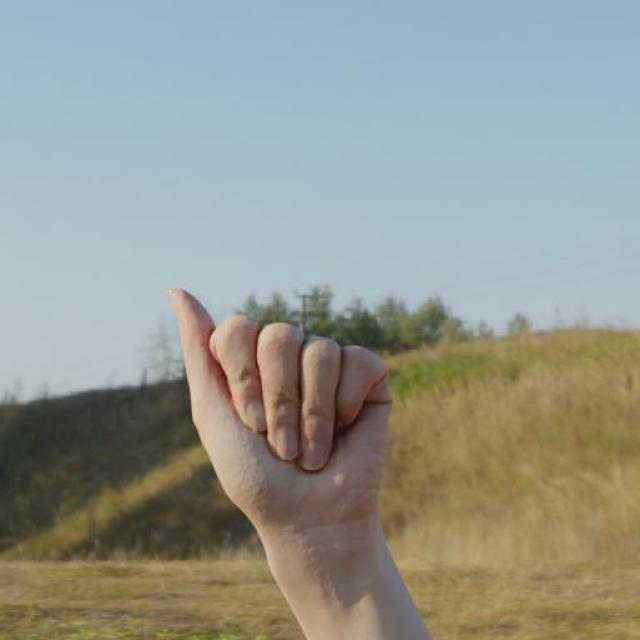A: (162, 282, 396, 533)
